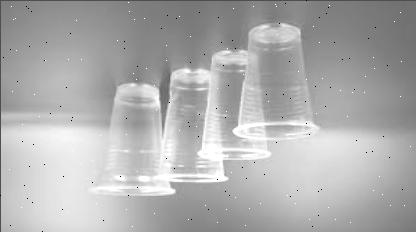Others: (90, 81, 168, 202), (240, 21, 315, 145), (196, 49, 270, 161), (164, 65, 224, 187)
